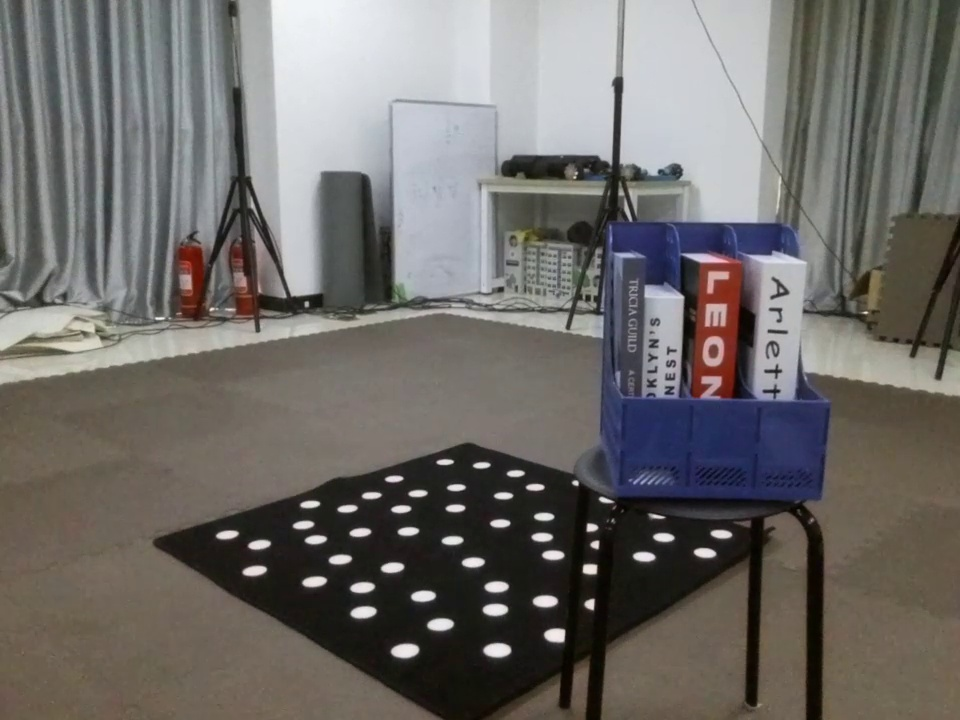files: (589, 214, 835, 510)
